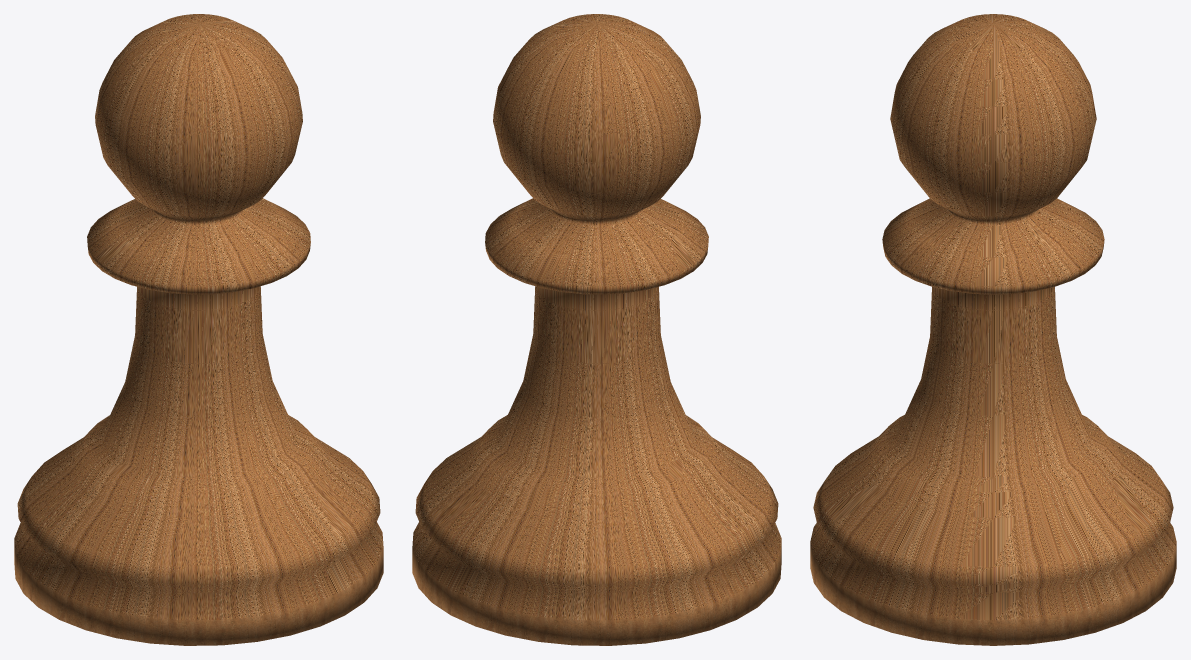
Rendered from Soldier.gltf.
The picture shows the model from 3 angles, left to right: view 1: azimuth 30°, elevation 25°; view 2: azimuth 150°, elevation 25°; view 3: azimuth 270°, elevation 25°; orthographic projection.
Visible parts, largest first — view 1: BlackSoldier; view 2: BlackSoldier; view 3: BlackSoldier.
Boxes of the visible parts, x1=… form: BlackSoldier: x1=14, y1=14, x2=383, y2=645; BlackSoldier: x1=412, y1=14, x2=781, y2=645; BlackSoldier: x1=810, y1=14, x2=1176, y2=645.
Size of the model in its own units: 0.0344 by 0.0557 by 0.034.
1 material, 1 textured.
